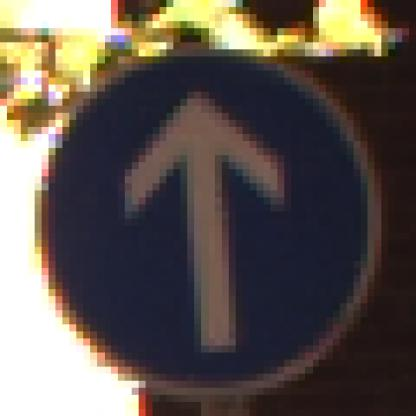AheadOnly: (36, 36, 375, 382)
